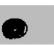correct: (1, 17, 29, 40)
